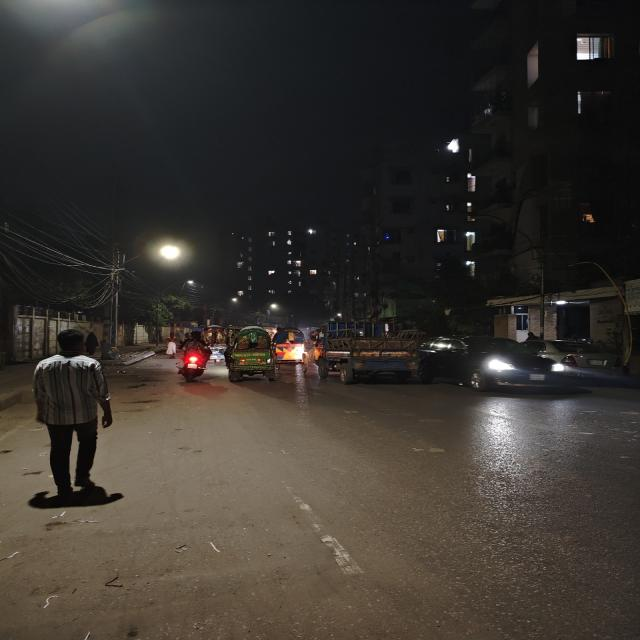car: (419, 334, 570, 396)
motorcycle: (171, 336, 212, 382)
pedestrian: (21, 330, 122, 498)
pickup_van: (310, 318, 429, 386)
rickshaw: (222, 324, 280, 384), (272, 327, 311, 363), (201, 324, 231, 362)
